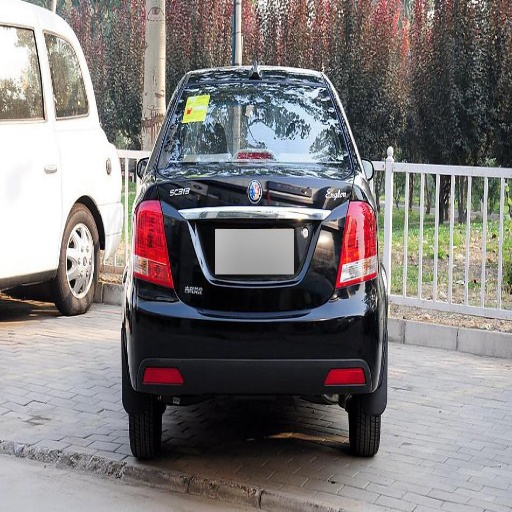back_bumper: (128, 274, 380, 402)
back_glass: (161, 77, 350, 171)
back_left_door: (22, 74, 64, 235)
back_left_light: (129, 199, 174, 287)
tailgate: (149, 155, 353, 311)
